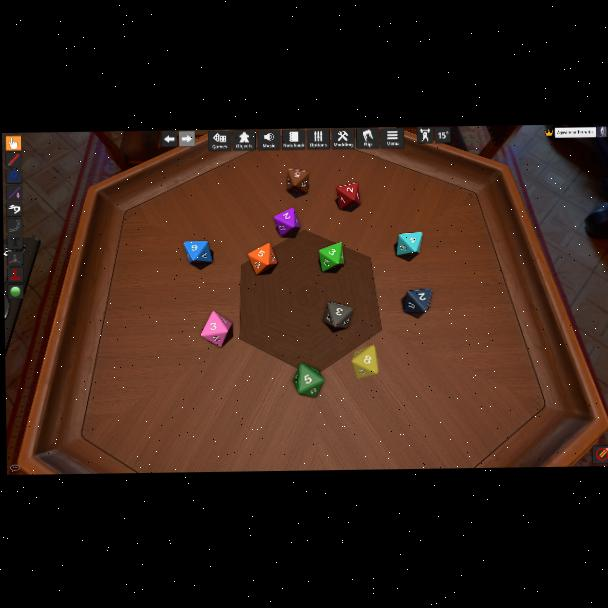d8: (200, 311, 232, 349), (293, 363, 322, 398), (248, 243, 276, 275), (352, 346, 379, 379), (324, 301, 352, 329), (274, 207, 299, 236), (319, 242, 343, 272), (405, 288, 432, 314), (184, 240, 212, 264), (336, 182, 360, 210), (396, 232, 421, 258), (286, 168, 307, 195), (384, 128, 404, 149)
